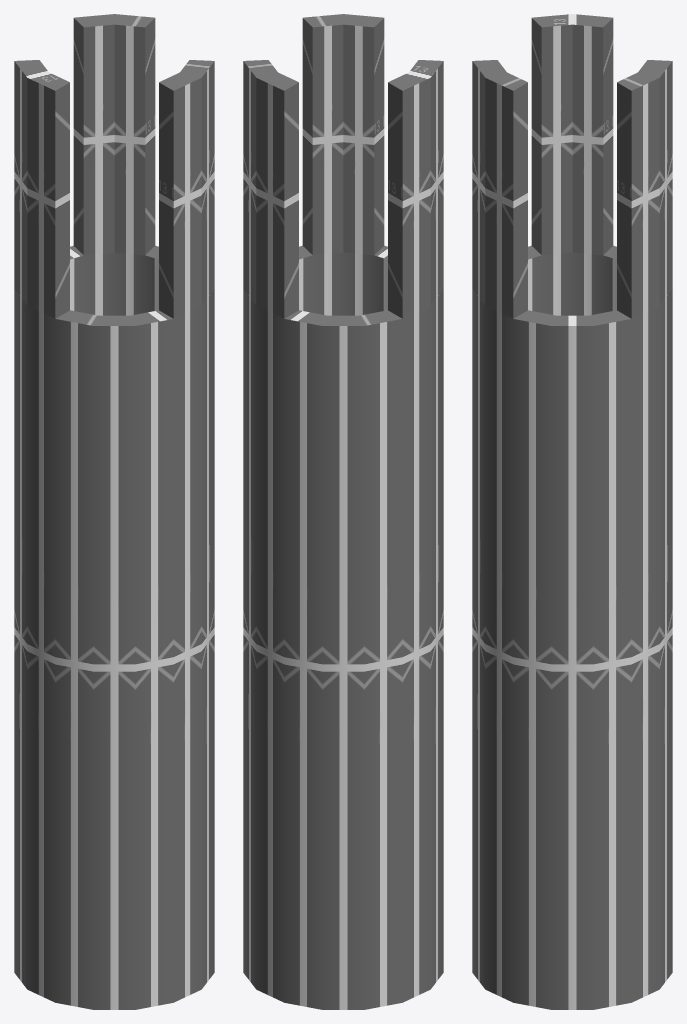
File: Foundation-Standard-Marksman-Rifle-Barrel.obj
3 renders of one model, left to right at view 1: azimuth 30°, elevation 25°; view 2: azimuth 150°, elevation 25°; view 3: azimuth 270°, elevation 25°, orthographic.
Visible parts, largest first — view 1: Foundation-Standard-Marksman-Rifle-Barrel; view 2: Foundation-Standard-Marksman-Rifle-Barrel; view 3: Foundation-Standard-Marksman-Rifle-Barrel.
Part boxes in pixels (<box>): Foundation-Standard-Marksman-Rifle-Barrel: <box>14,14,214,1009</box>; Foundation-Standard-Marksman-Rifle-Barrel: <box>243,14,443,1009</box>; Foundation-Standard-Marksman-Rifle-Barrel: <box>472,14,672,1009</box>.
Bounding box in the file's own units: 0.3956 × 2 × 0.3978.
